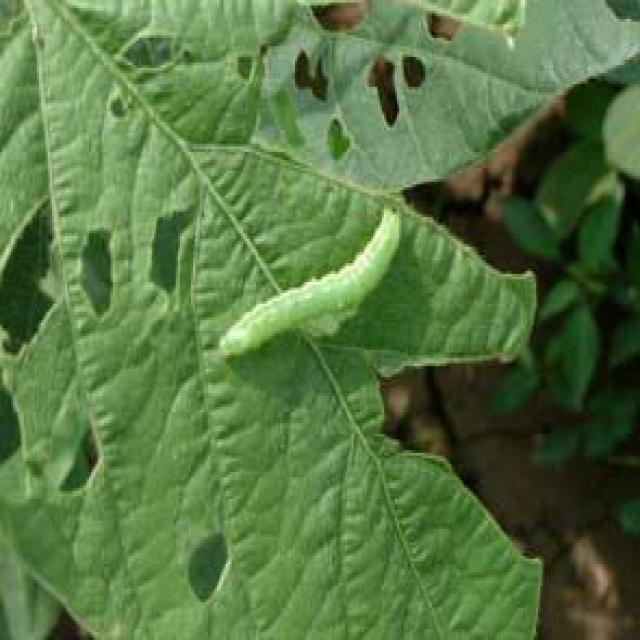BeetArmyWorm-Larva-: (216, 204, 407, 365)
